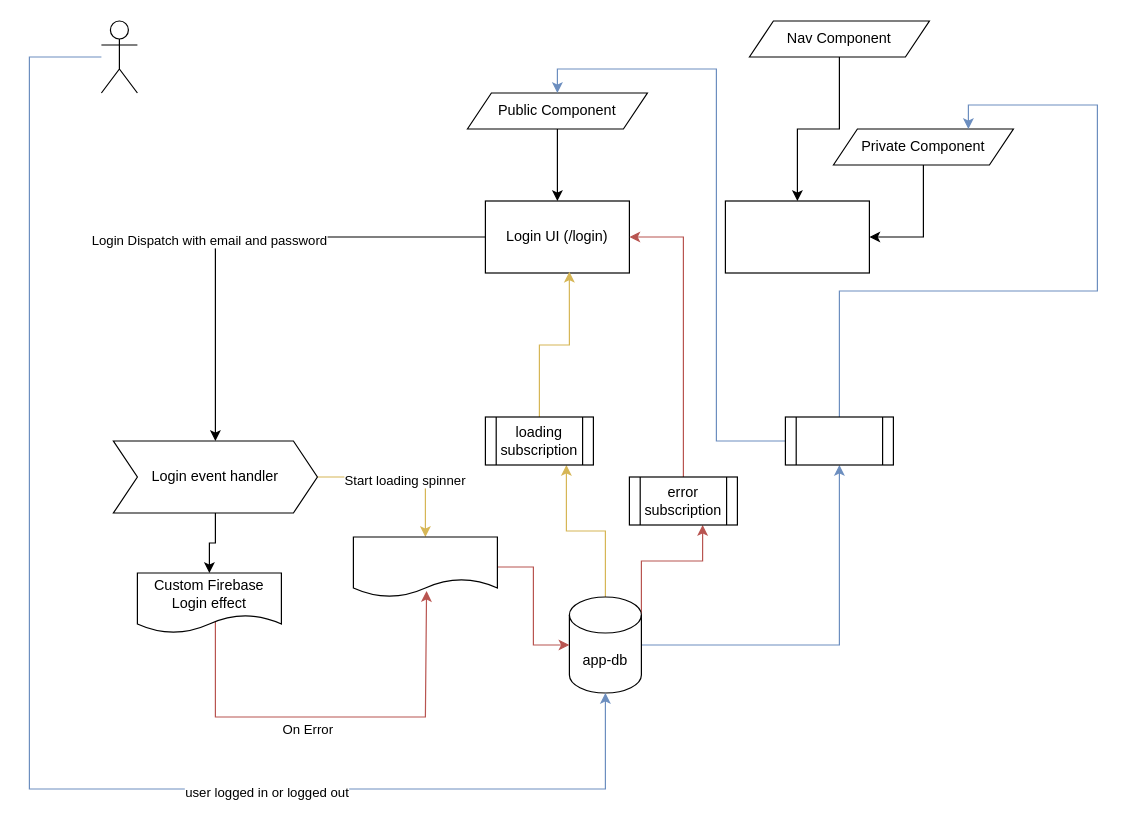
Some shapes in this 1128 by 821 pixel diagram are drawn without their labels. Each missing label, with the centre of its shape:
Auth State Observer: pixel 118 56
Built in db effect: pixel 424 566
Graphics UI (/graphics): pixel 796 236
me subscription: pixel 838 440
